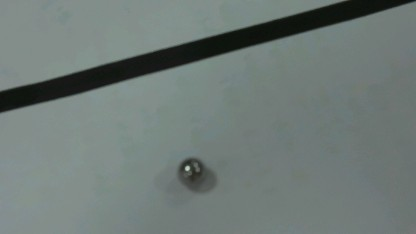ironball: (175, 157, 203, 183)
